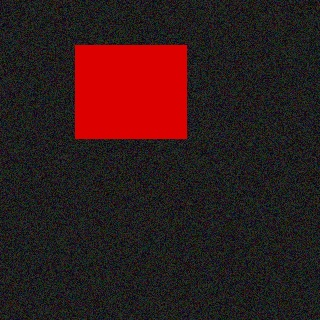red_barrel: (75, 45, 186, 138)
